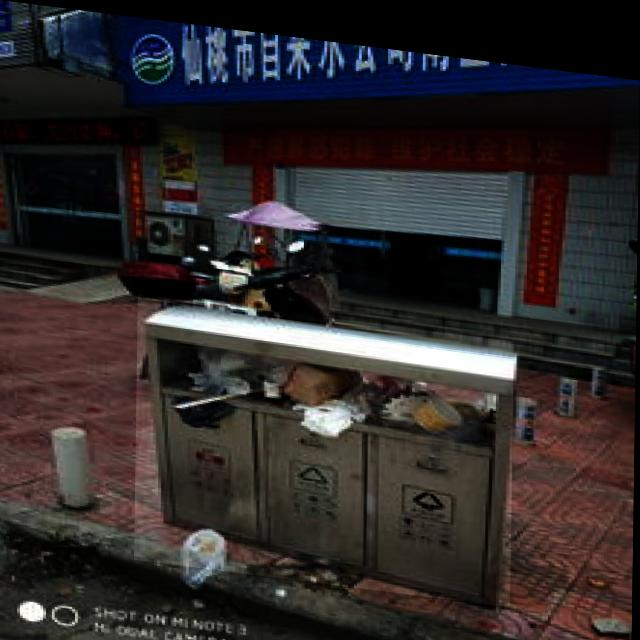overflow: (136, 291, 515, 594)
